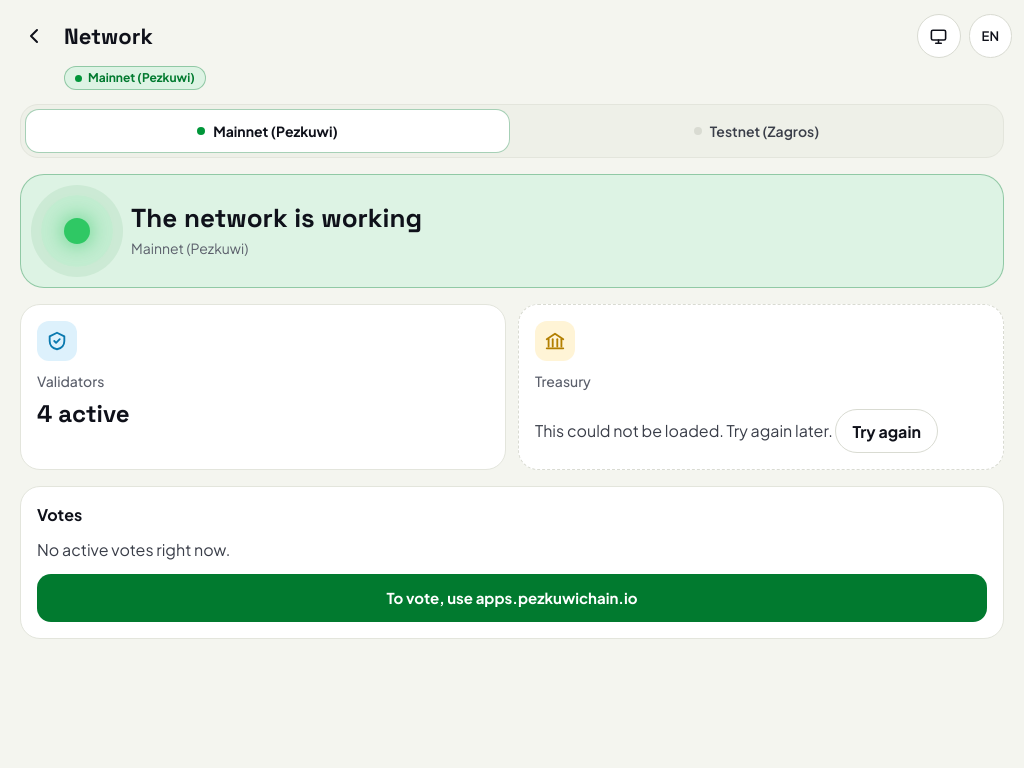
Test case: Network › retry reloads
Expected: the text "4 active" is shown, [37,398,130,429]
Click the button "Try again" at (887, 431), box [836,409,938,453]
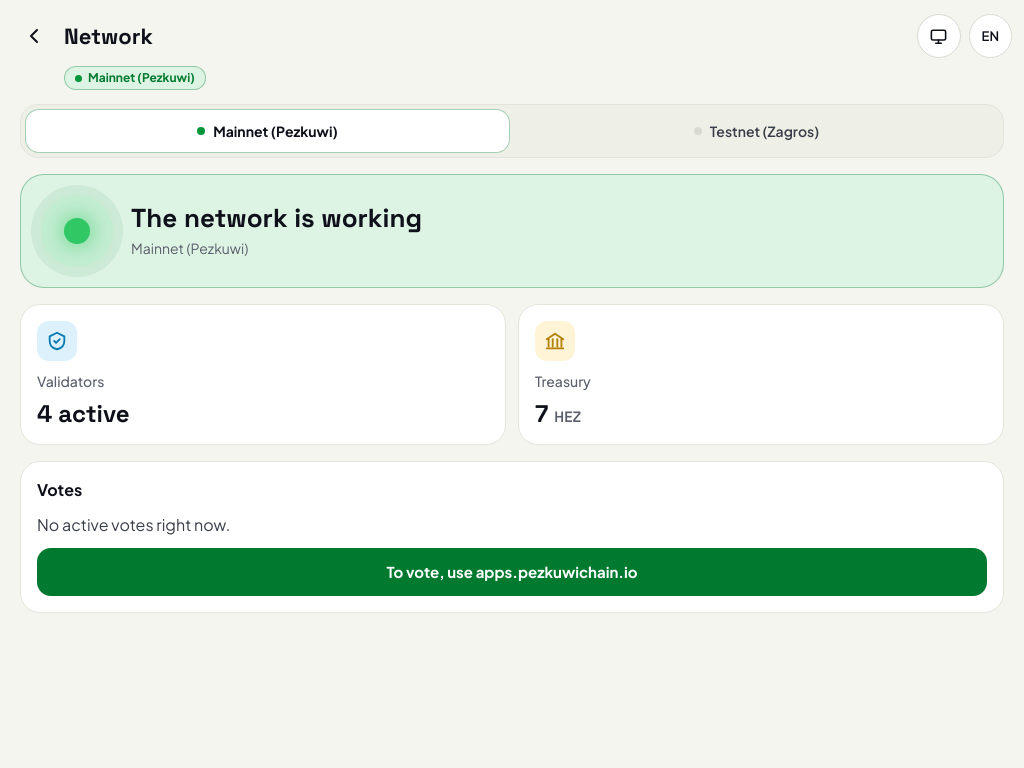
Result: the element titled "7 HEZ" is shown at [535,402,581,426]
